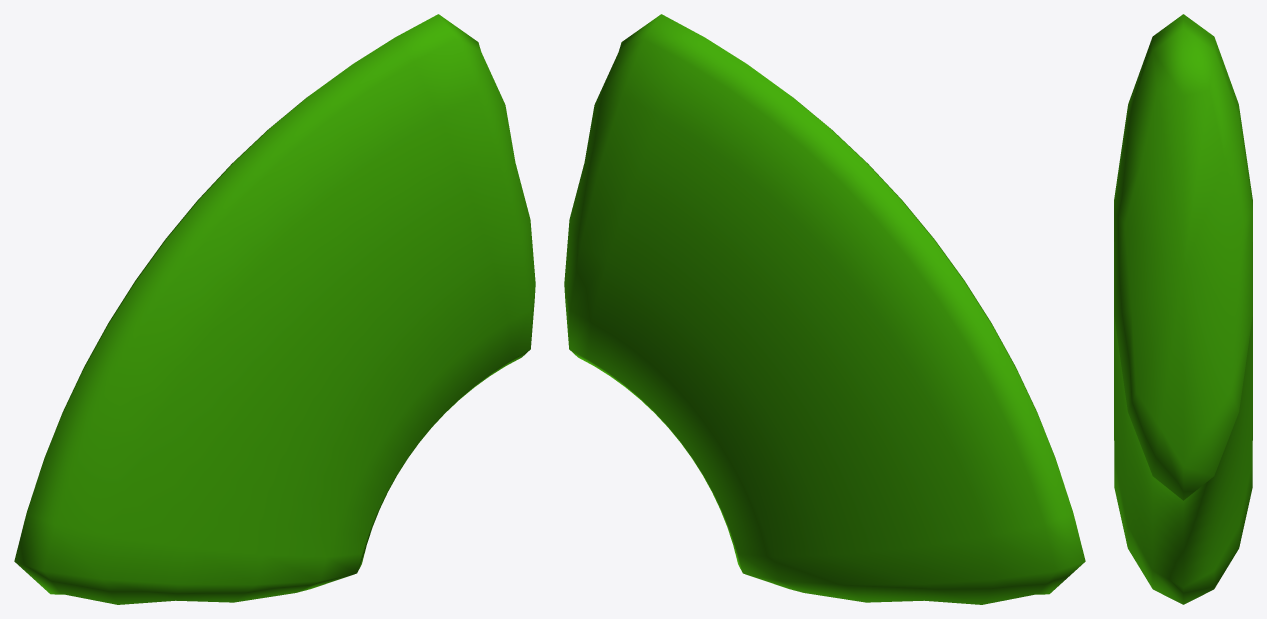
File: Green.glb
3 views of the same model, side by side, from view 1: azimuth 30°, elevation 25°; view 2: azimuth 150°, elevation 25°; view 3: azimuth 270°, elevation 25° (orthographic). The views are drawn at different scales.
Parts seen in each view (by area): view 1: Green; view 2: Green; view 3: Green.
Part boxes in pixels (left/top/right/bottom): Green: left=14, top=14, right=535, bottom=604; Green: left=564, top=14, right=1085, bottom=604; Green: left=1114, top=14, right=1252, bottom=604.
Size of the model in its own units: 89.02 by 89.02 by 17.92.
